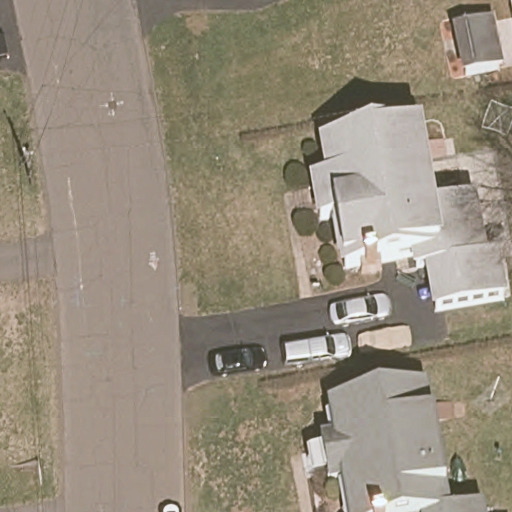DT: (17, 142, 38, 186)
